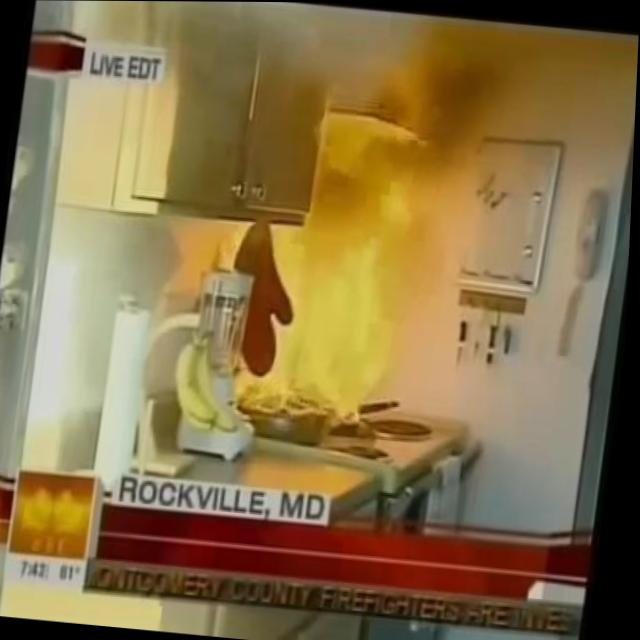fire: (201, 218, 415, 426), (307, 61, 460, 244)
